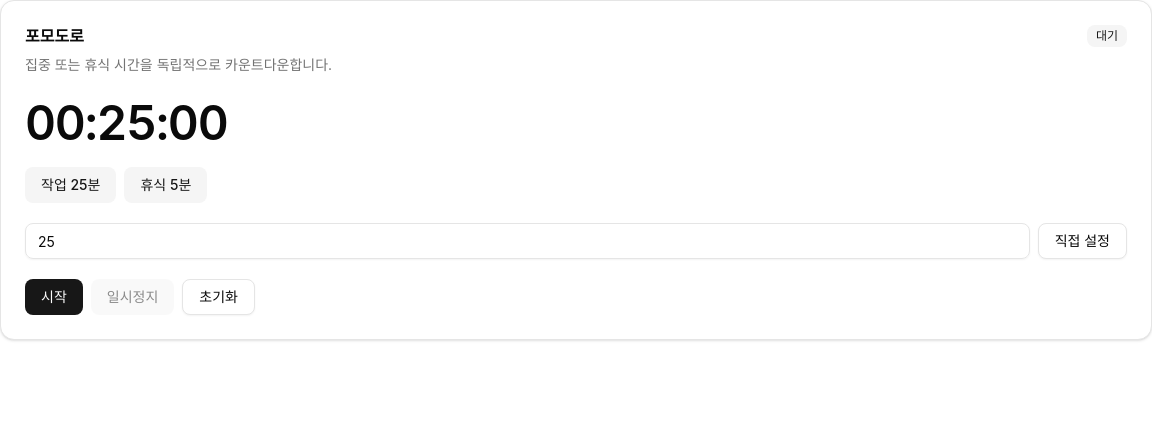
Test: PomodoroCard › rejects a custom duration that is not a positive whole minute
Replace the text in the number field named "직접 시간 (분)" with "0" at [527, 241], box [25, 223, 1030, 259]
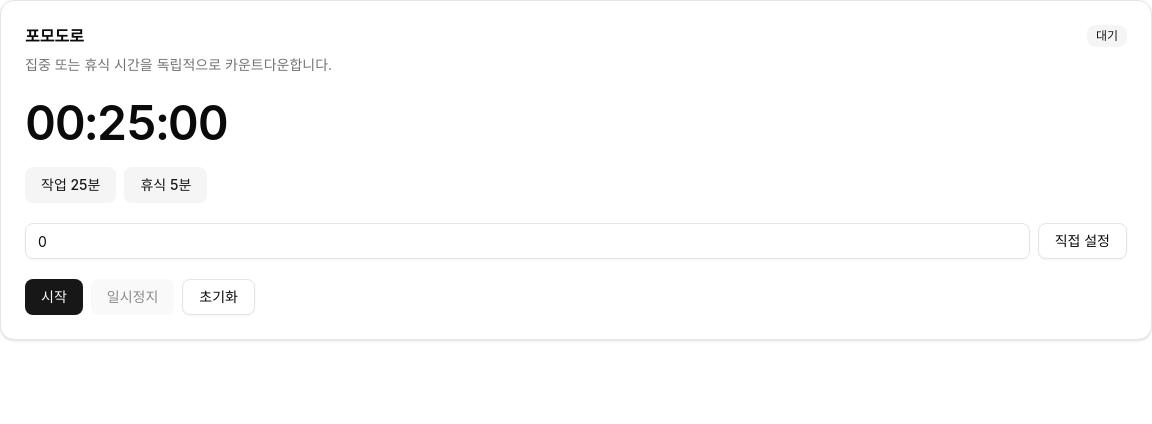
Click the button "직접 설정" at [1082, 241], box [1038, 223, 1127, 259]
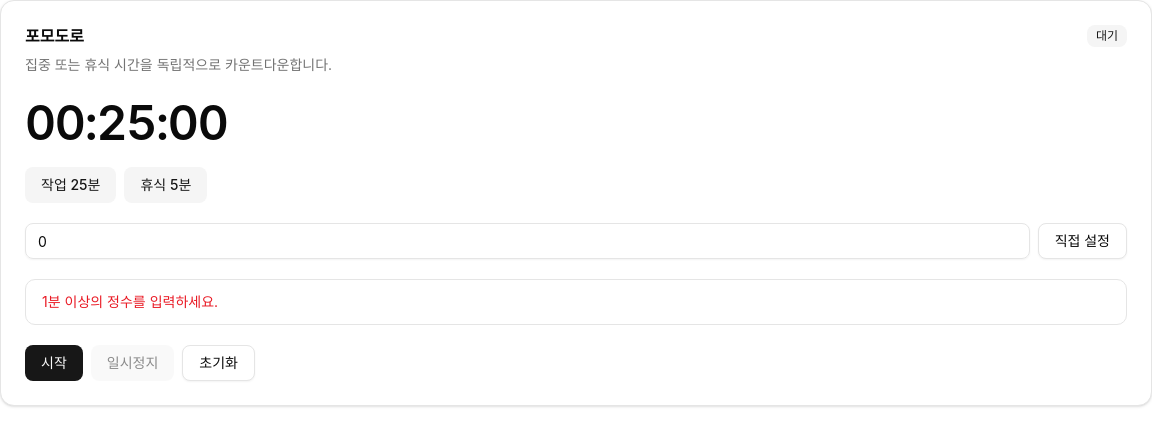
Expected: the text "00:25:00" is shown, [25, 93, 228, 152]
Now the message reads "1분 이상의 정수를 입력하세요.", box [42, 293, 218, 310]
